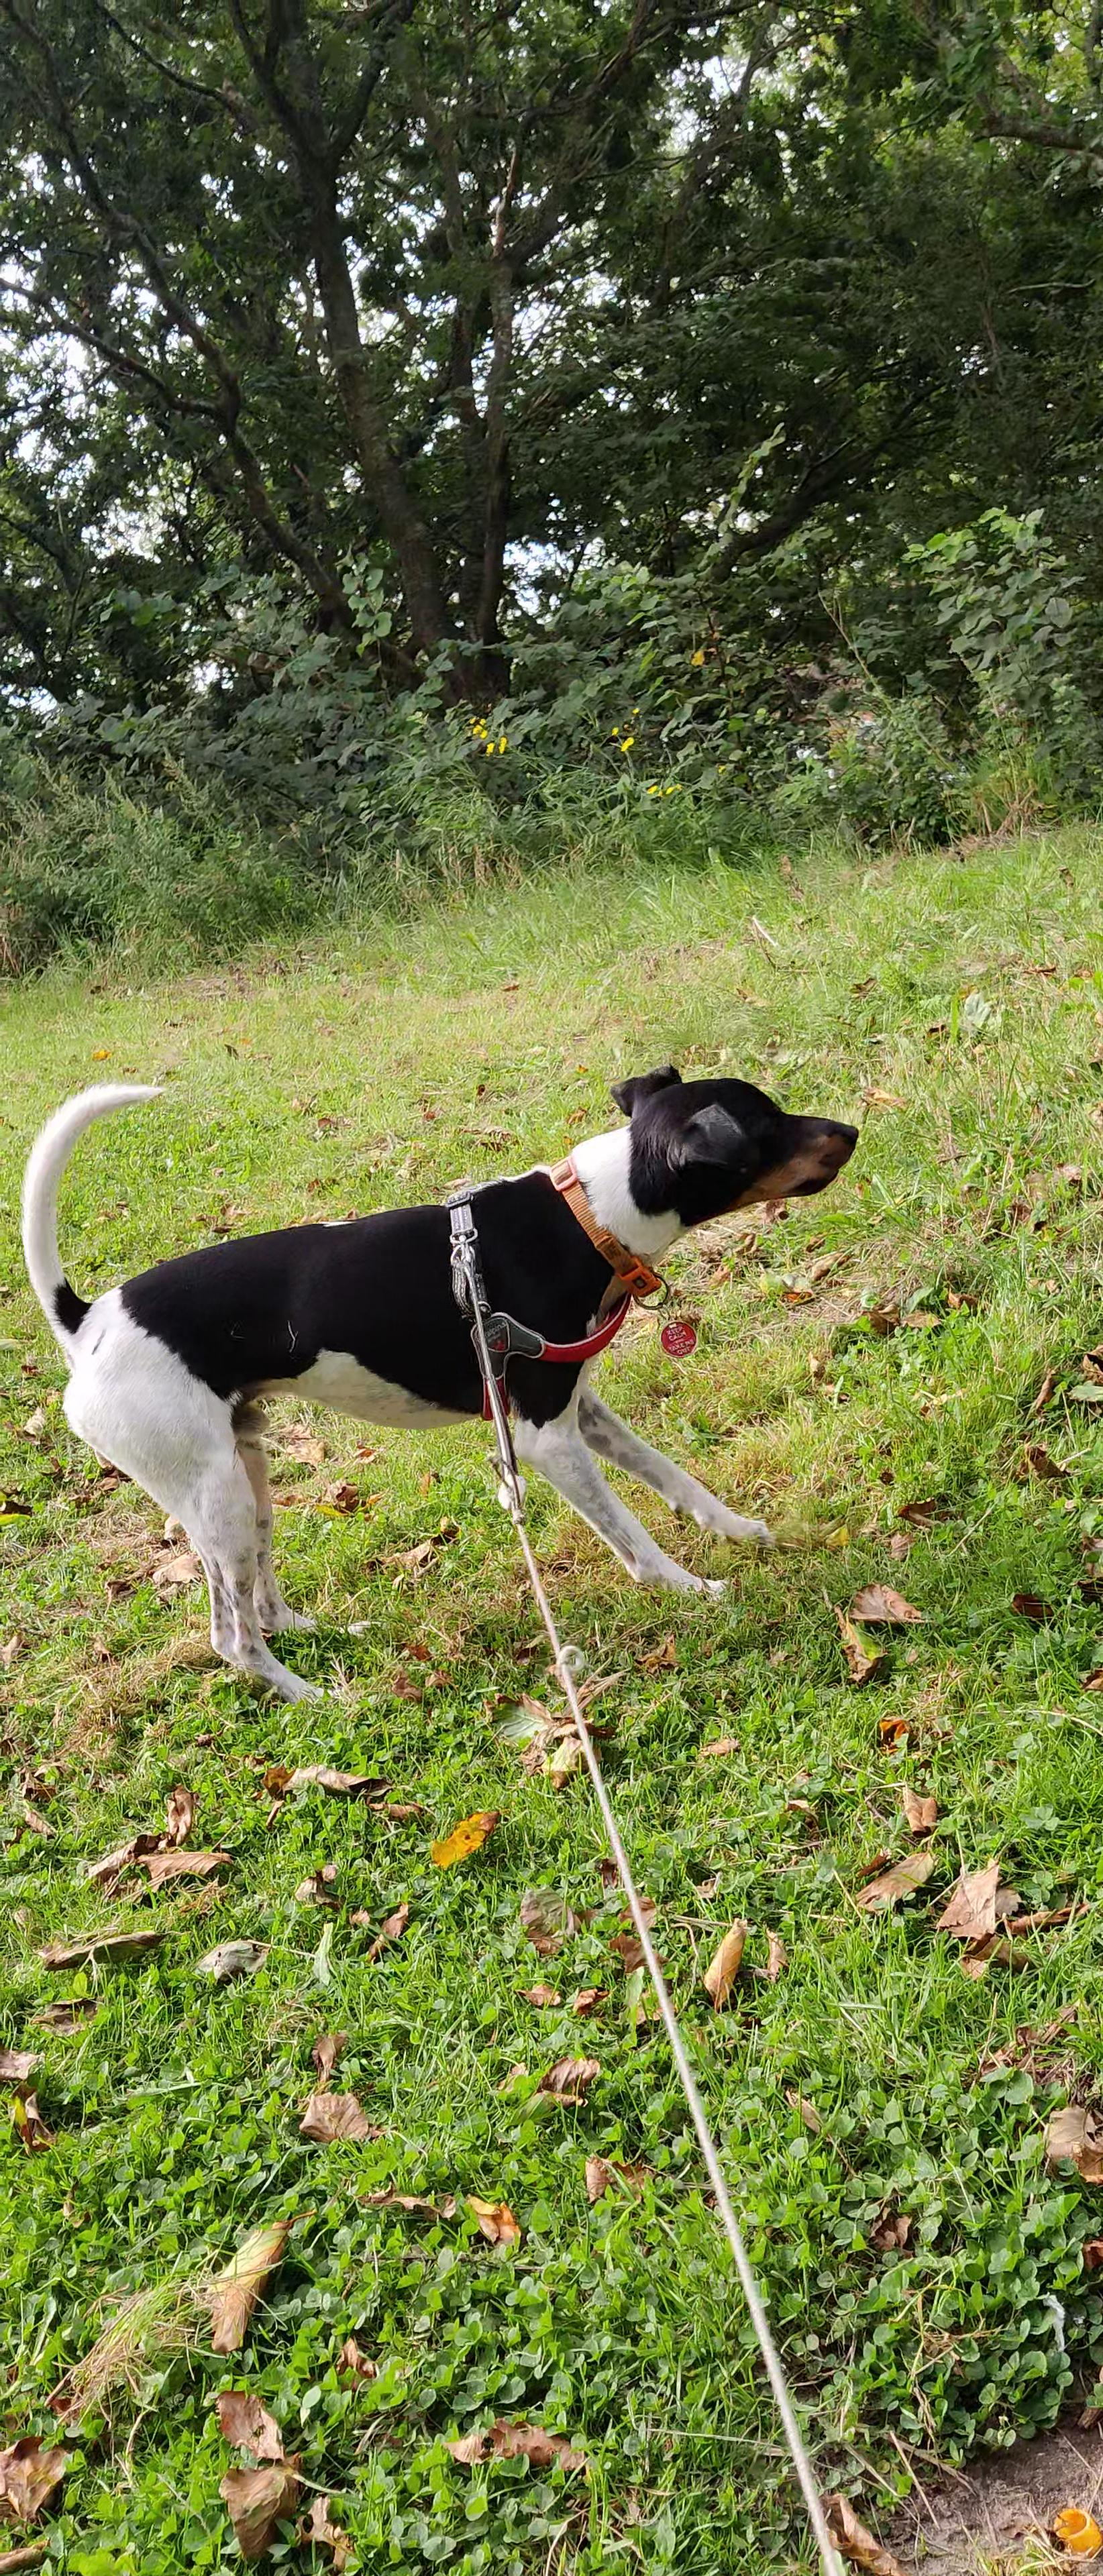Dog: (3, 999, 855, 1679)
